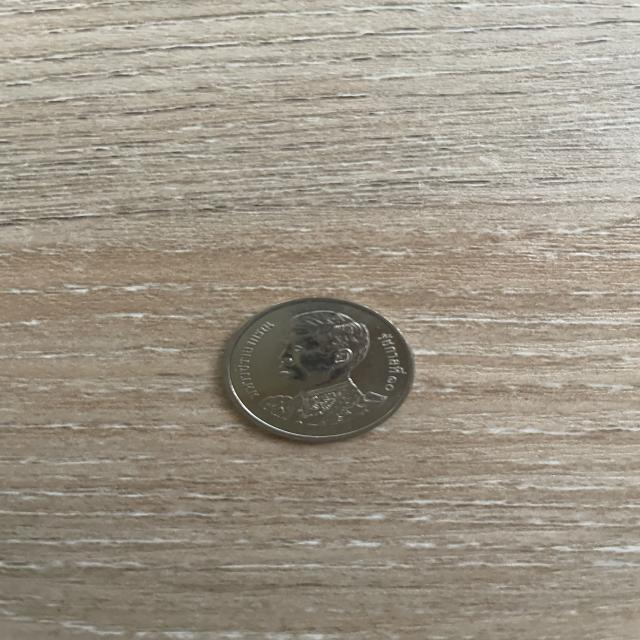1 Bath: (196, 287, 434, 450)
